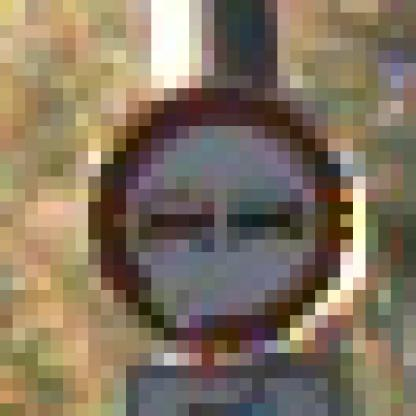No Overtaking: (77, 77, 354, 354)
